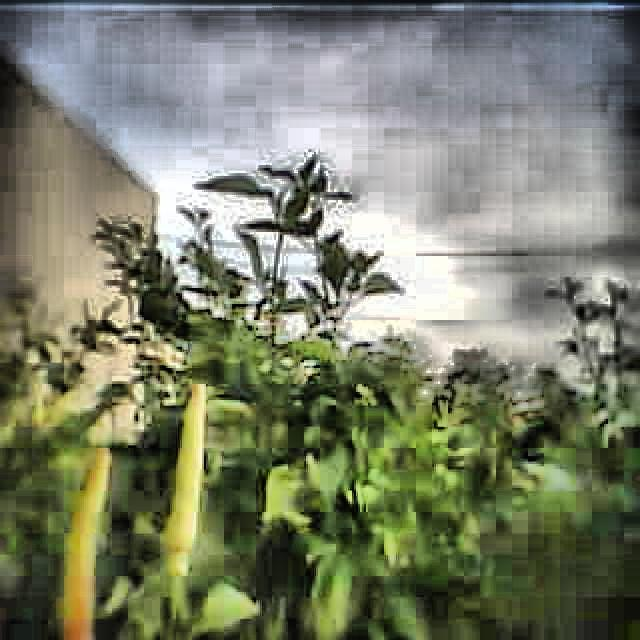Cabai: (57, 450, 120, 640)
